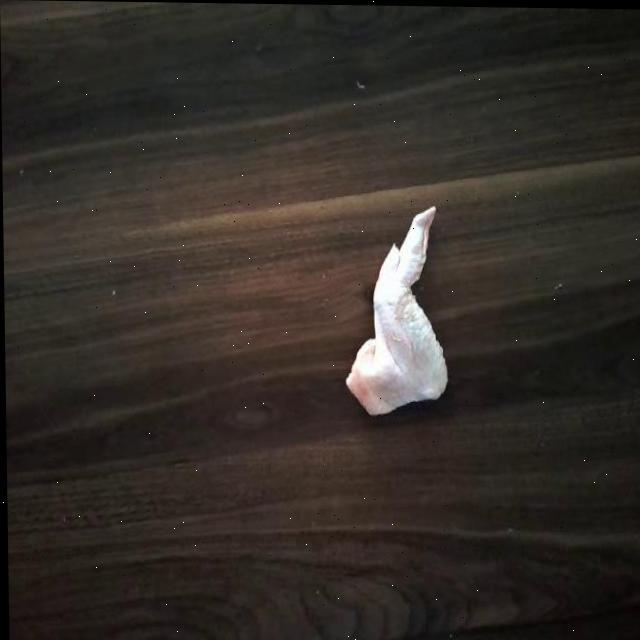wing: (340, 192, 454, 434)
